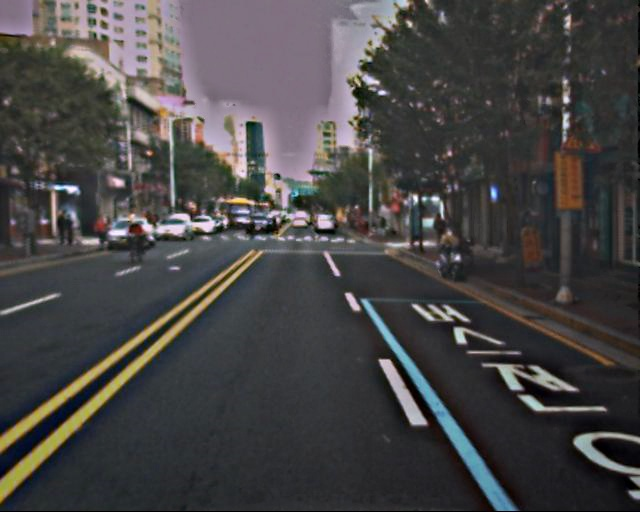person: (430, 213, 448, 258), (55, 209, 75, 248)
